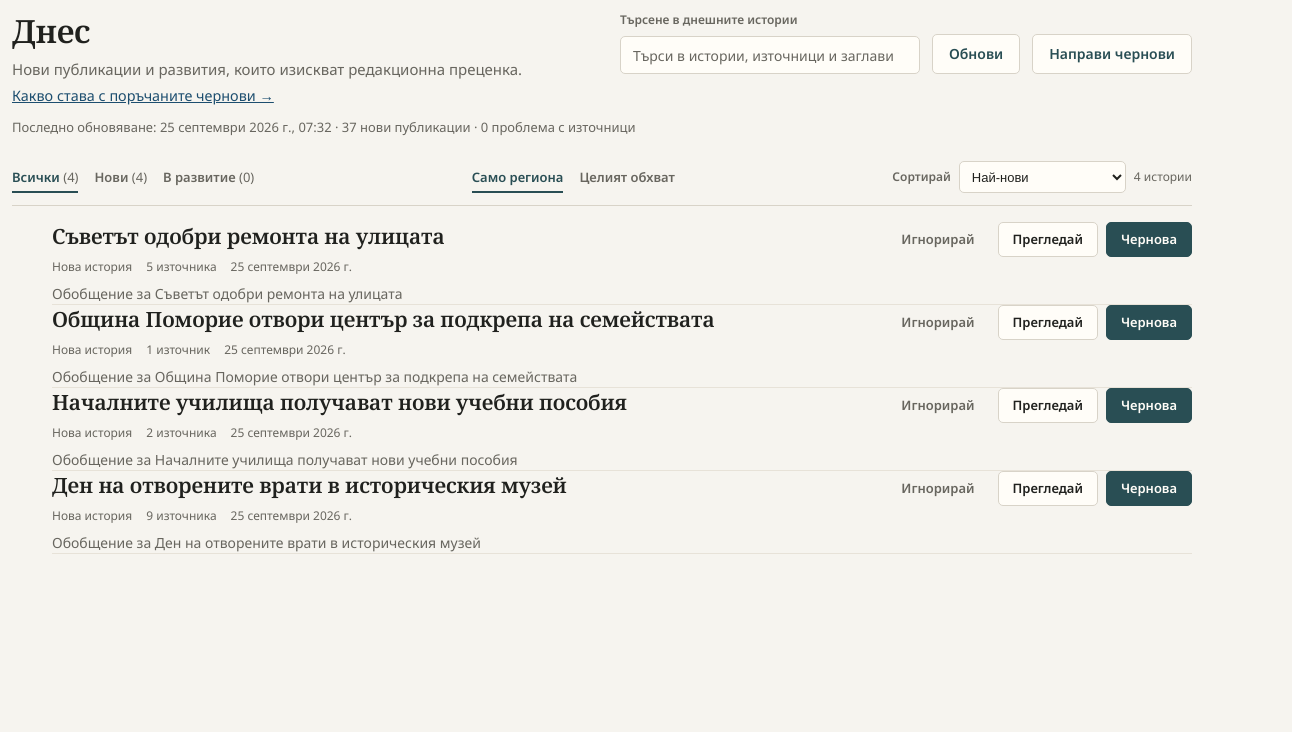
Scenario: V1.2-G1 — Quick Draft action hierarchy › shows one calm pending status and no stage vocabulary
What coordinates should you click on to do the following:
click the 1st button "Чернова"
I would click on:
 (1149, 240)
Its box is [1106,222,1192,257].
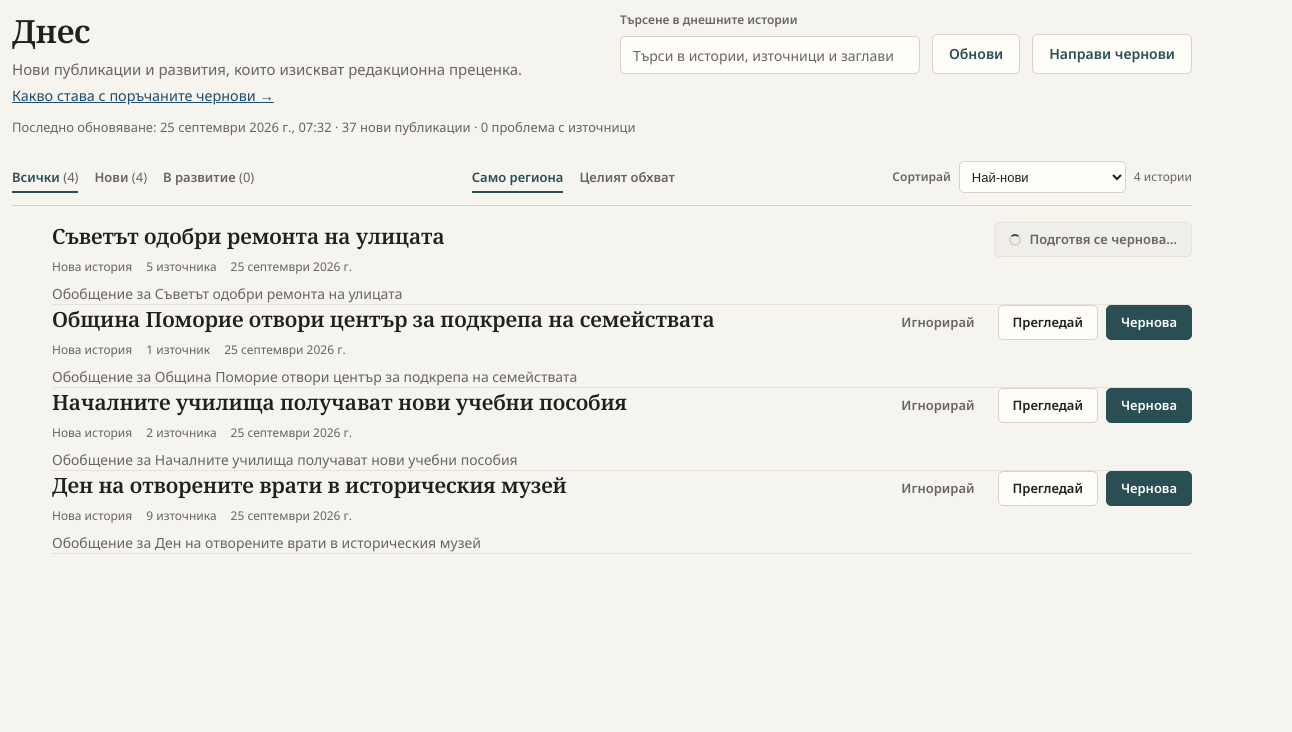
Expected: the 1st button "Чернова" is shown, [1106,305,1192,340]
Expected: the button "Подготвя се чернова…" is disabled, [994,222,1192,257]
